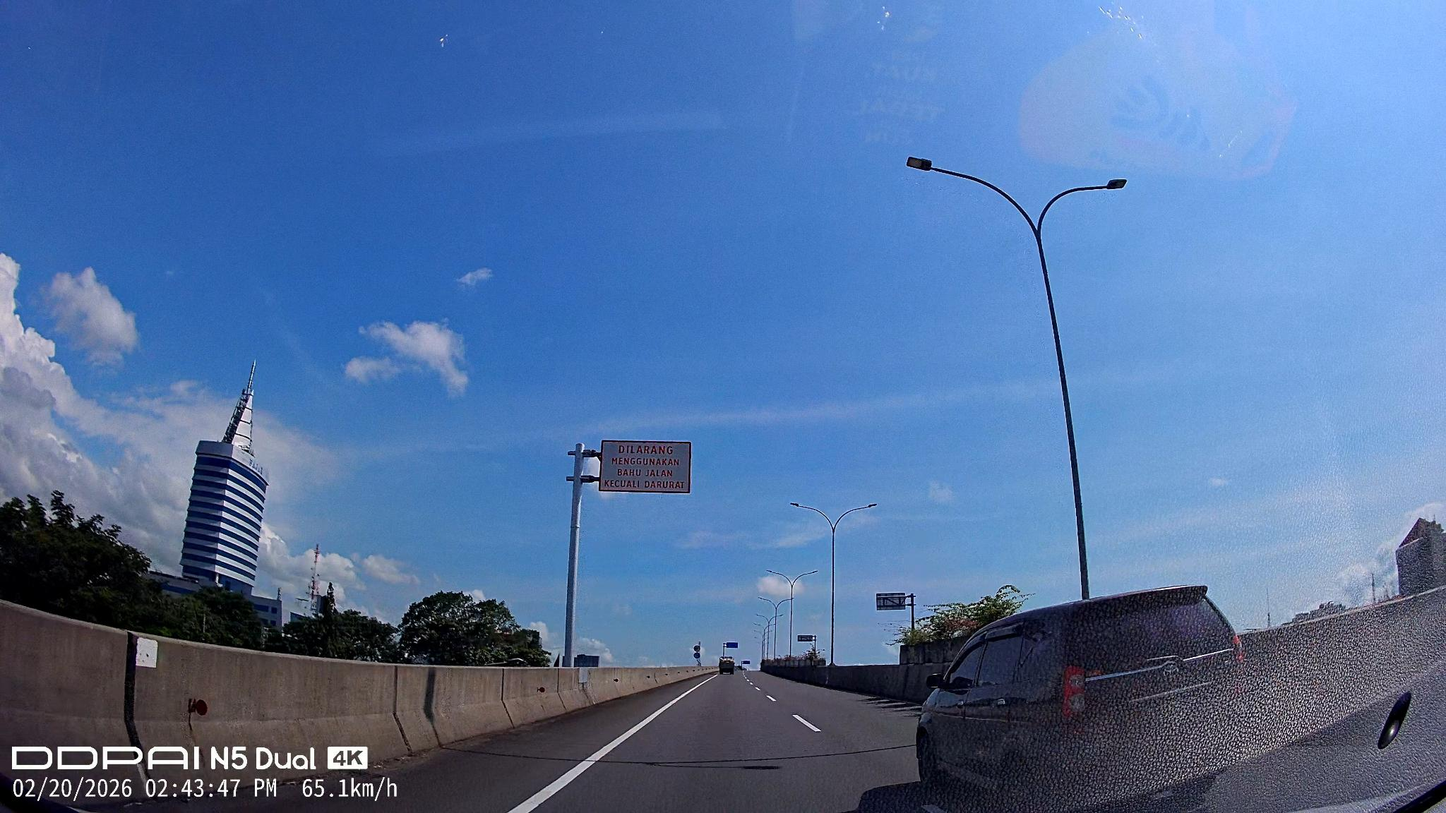rambu_teks: (599, 440, 691, 494)
